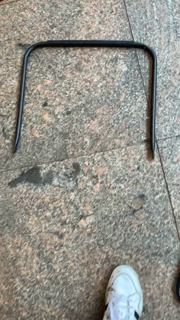C pipe: (12, 38, 161, 164)
